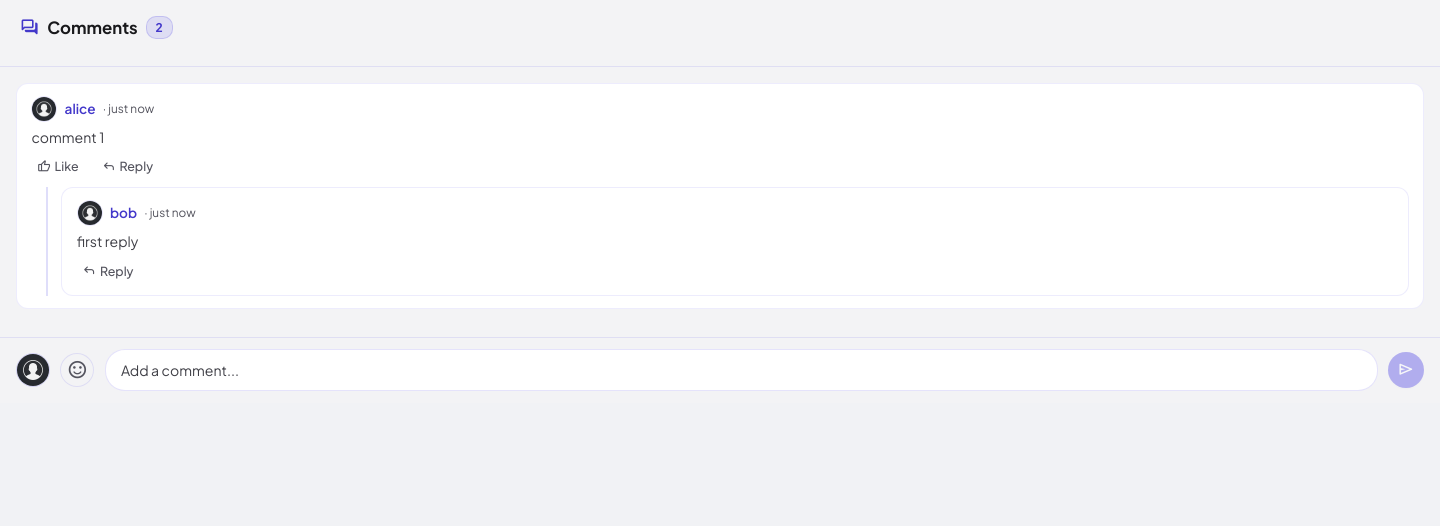
Test: PostCommentsPanel › replying to a reply nests the new reply under it (not under the top-level comment)
Expected: the text "first reply" is shown, [77, 232, 138, 250]
# Reply to the reply itself, not the top-level comment.
Click the button "Reply" below "first reply" at (108, 271), box [77, 259, 139, 283]
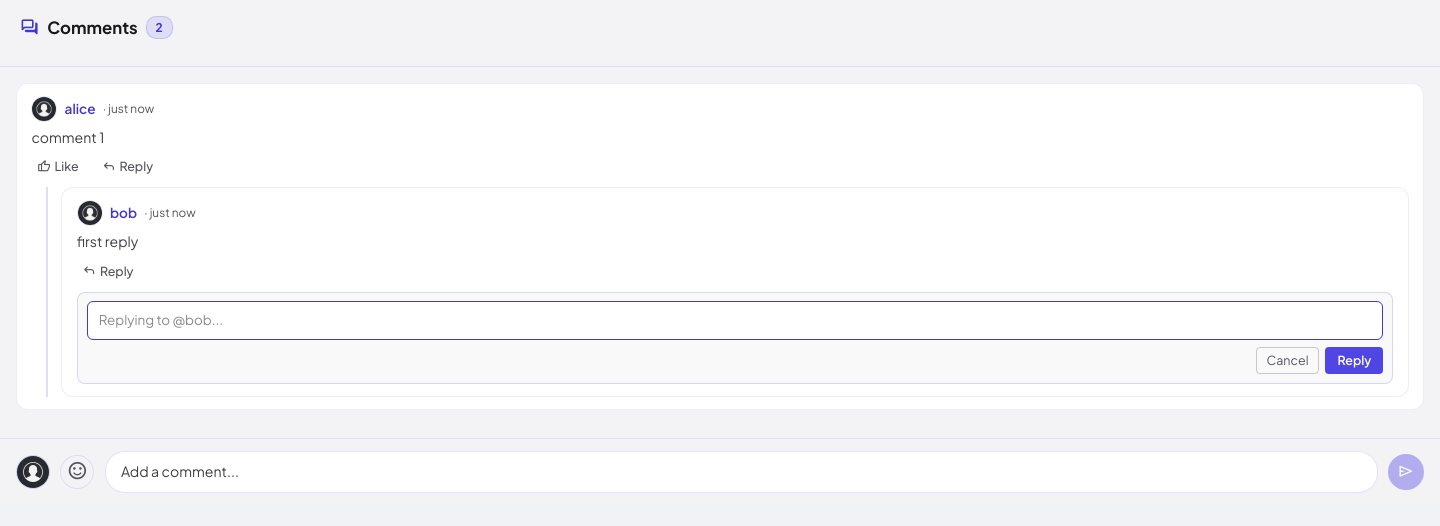
Type "nested!" into the field with placeholder "Replying to @bob..." at (735, 320), box [87, 301, 1384, 340]
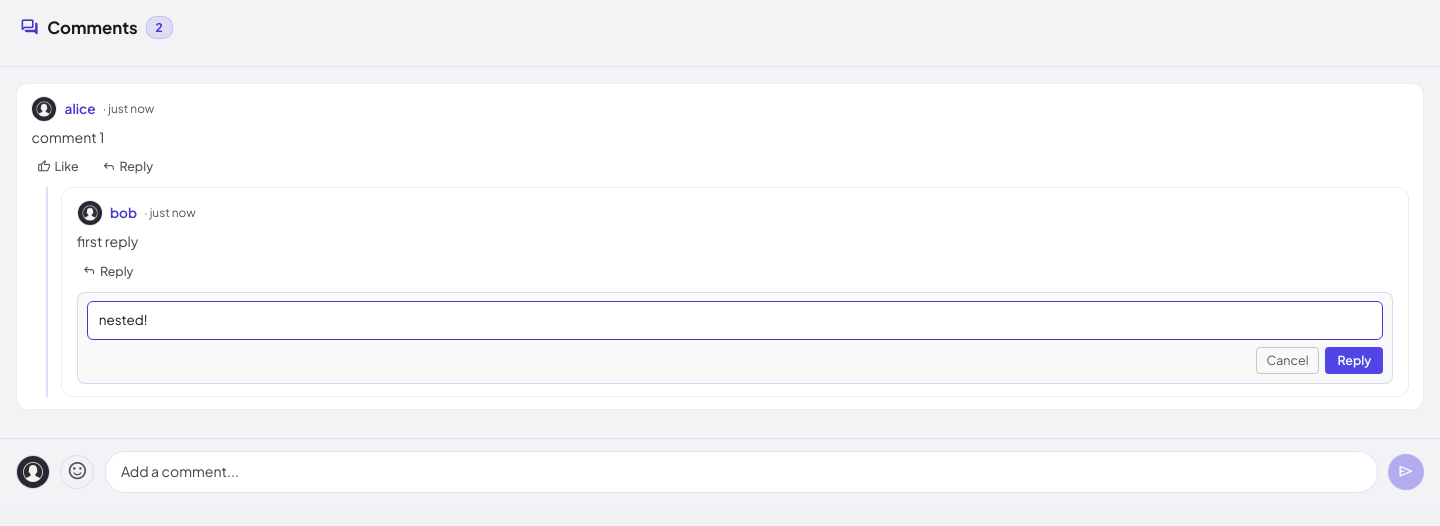
Click the 3rd button "Reply" at (1354, 361), box [1326, 347, 1383, 374]
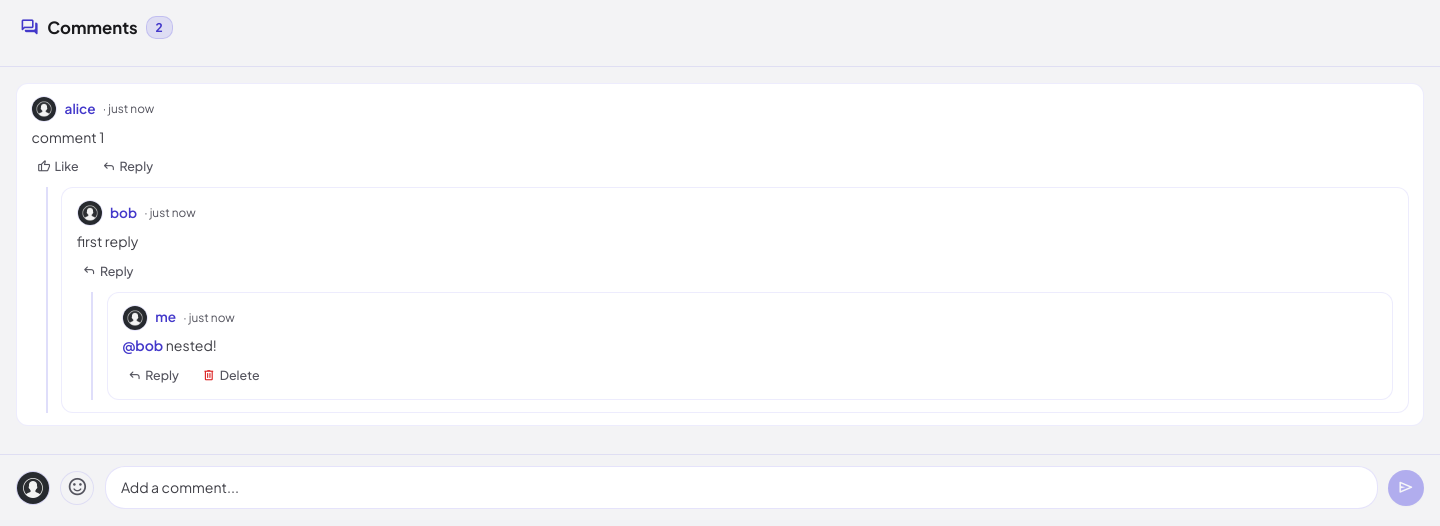
Expected: the text "nested!" is shown, [166, 336, 217, 354]
